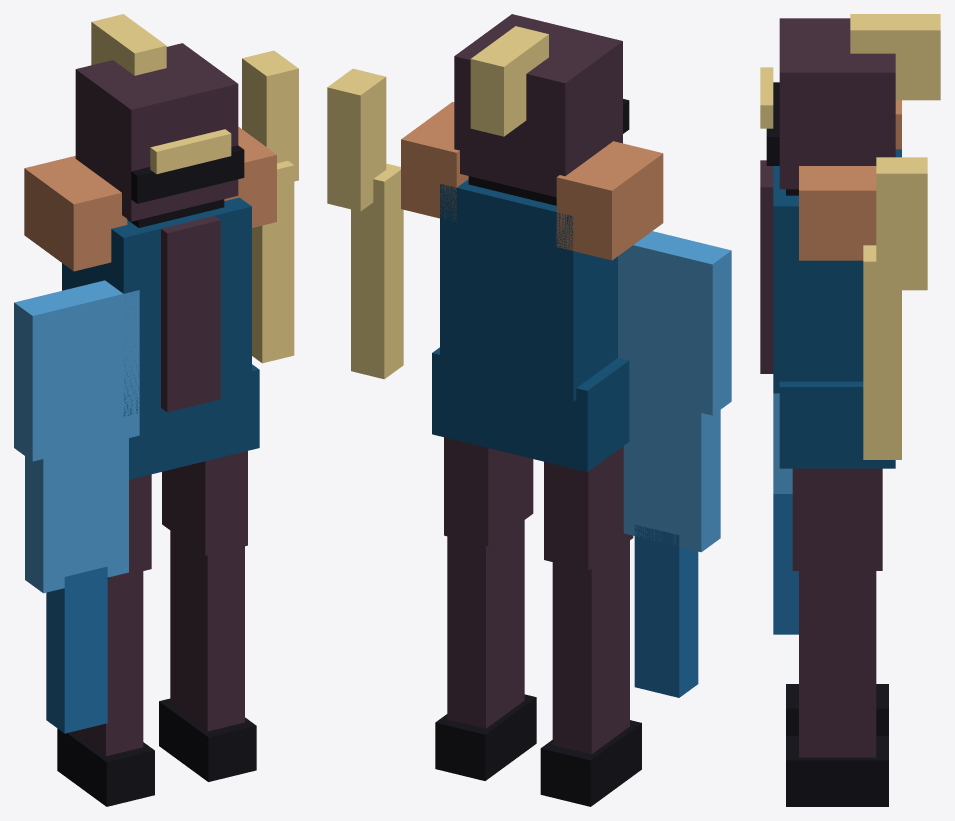
The model's file is knight.gltf.
3 renders of one model, left to right at view 1: azimuth 30°, elevation 25°; view 2: azimuth 150°, elevation 25°; view 3: azimuth 270°, elevation 25°, orthographic. The views are drawn at different scales.
Visible parts, largest first — view 1: 10_wing_shield_head, 17_drake_helm, 07_wing_shield_membrane, 11_faction_plate, 03_right_greave, 12_scale_ridge, 04_wing_shield_point, 14_left_pauldron_spike, 08_scale_skirt, 06_right_thigh, 02_left_greave, 09_glaive_shaft (+9 smaller); view 2: 11_faction_plate, 17_drake_helm, 10_wing_shield_head, 08_scale_skirt, 02_left_greave, 03_right_greave, 07_wing_shield_membrane, 04_wing_shield_point, 14_left_pauldron_spike, 09_glaive_shaft, 05_left_thigh, 06_right_thigh (+6 smaller); view 3: 17_drake_helm, 03_right_greave, 11_faction_plate, 06_right_thigh, 08_scale_skirt, 09_glaive_shaft, 15_right_pauldron_spike, 13_glaive_fang, 19_helm_comb, 01_right_boot, 04_wing_shield_point, 12_scale_ridge (+5 smaller).
Part boxes in pixels (x1,y1,x2,y2): 10_wing_shield_head: (14, 280, 139, 461); 17_drake_helm: (75, 43, 238, 221); 07_wing_shield_membrane: (25, 416, 128, 593); 11_faction_plate: (62, 197, 251, 416); 03_right_greave: (170, 530, 244, 731); 12_scale_ridge: (161, 215, 220, 412); 04_wing_shield_point: (46, 566, 107, 733); 14_left_pauldron_spike: (24, 156, 127, 271); 08_scale_skirt: (129, 364, 259, 479); 06_right_thigh: (162, 451, 247, 555); 02_left_greave: (72, 571, 143, 756); 09_glaive_shaft: (252, 161, 294, 363); 11_faction_plate: (440, 179, 617, 401); 17_drake_helm: (454, 14, 622, 197); 10_wing_shield_head: (618, 231, 731, 415); 08_scale_skirt: (432, 347, 629, 472); 02_left_greave: (552, 540, 629, 754); 03_right_greave: (447, 520, 524, 728); 07_wing_shield_membrane: (623, 375, 720, 552); 04_wing_shield_point: (634, 525, 698, 697); 14_left_pauldron_spike: (556, 141, 663, 260); 09_glaive_shaft: (351, 163, 403, 379); 05_left_thigh: (544, 446, 633, 570); 06_right_thigh: (444, 437, 533, 546); 17_drake_helm: (779, 18, 895, 189); 03_right_greave: (799, 559, 876, 757); 11_faction_plate: (773, 149, 901, 393); 06_right_thigh: (792, 468, 882, 570); 08_scale_skirt: (779, 381, 895, 468); 09_glaive_shaft: (863, 245, 901, 459); 15_right_pauldron_spike: (799, 166, 876, 260); 13_glaive_fang: (876, 157, 927, 290); 19_helm_comb: (850, 14, 940, 100); 01_right_boot: (786, 736, 888, 806); 04_wing_shield_point: (773, 494, 798, 634); 12_scale_ridge: (760, 160, 773, 373).
Bounding box in the file's own units: 0.9219 × 2 × 0.4375.
